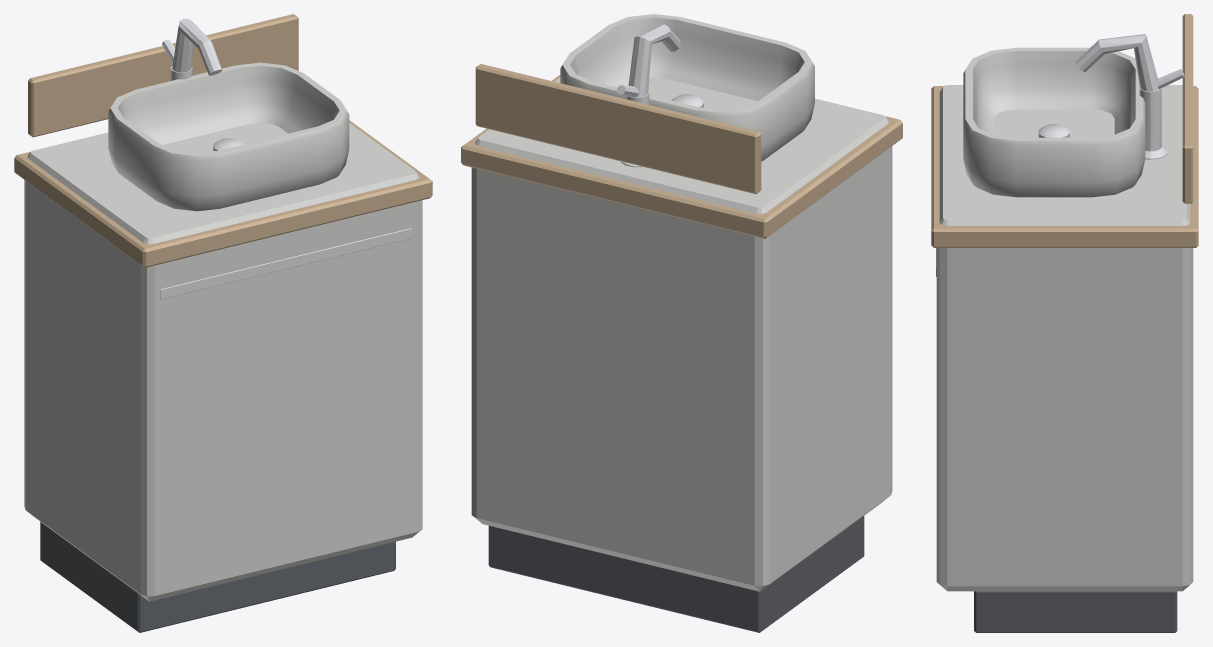
The model's file is office-lobby-and-facilities-basin-unit-single-05ff622b__26181.glb.
3 renders of one model, left to right at view 1: azimuth 30°, elevation 25°; view 2: azimuth 150°, elevation 25°; view 3: azimuth 270°, elevation 25°, orthographic. The views are drawn at different scales.
Visible parts, largest first — view 1: basin-unit-single; view 2: basin-unit-single; view 3: basin-unit-single.
Boxes of the visible parts, left/top/right/bottom form: basin-unit-single: left=14, top=14, right=432, bottom=632; basin-unit-single: left=461, top=14, right=902, bottom=632; basin-unit-single: left=931, top=14, right=1198, bottom=632.
Size of the model in its own units: 0.64 by 1.1 by 0.5.
